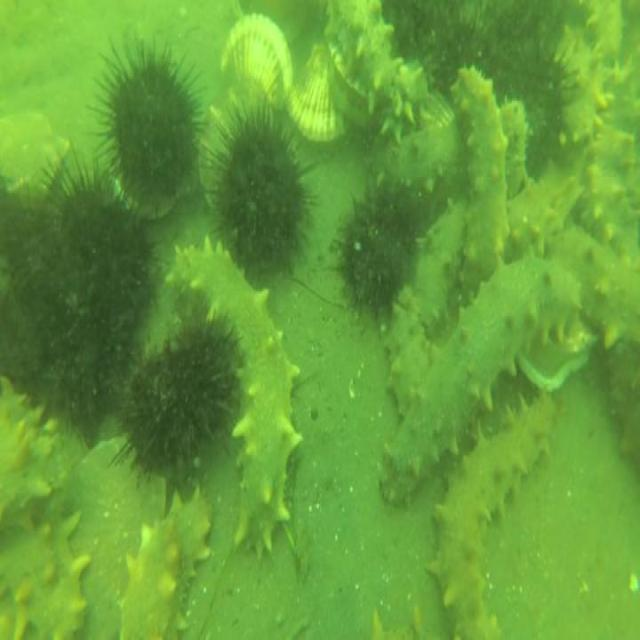echinus: (36, 171, 156, 368), (207, 103, 311, 280), (97, 38, 203, 202), (121, 333, 235, 478), (332, 191, 418, 327), (494, 40, 571, 178), (429, 16, 499, 98)
holothurian: (374, 248, 584, 512), (165, 237, 307, 558), (428, 382, 562, 640), (368, 98, 529, 207), (112, 483, 213, 640), (450, 60, 509, 315), (322, 0, 423, 147), (539, 217, 640, 352), (2, 507, 92, 640), (0, 371, 61, 540), (574, 126, 640, 267), (408, 196, 476, 332), (383, 283, 446, 423), (508, 147, 586, 258), (556, 19, 616, 158), (575, 0, 629, 58)
scallop: (67, 431, 166, 640), (195, 77, 271, 216), (217, 14, 296, 120), (0, 100, 72, 199), (288, 38, 345, 148), (323, 41, 377, 131), (111, 175, 190, 226)
